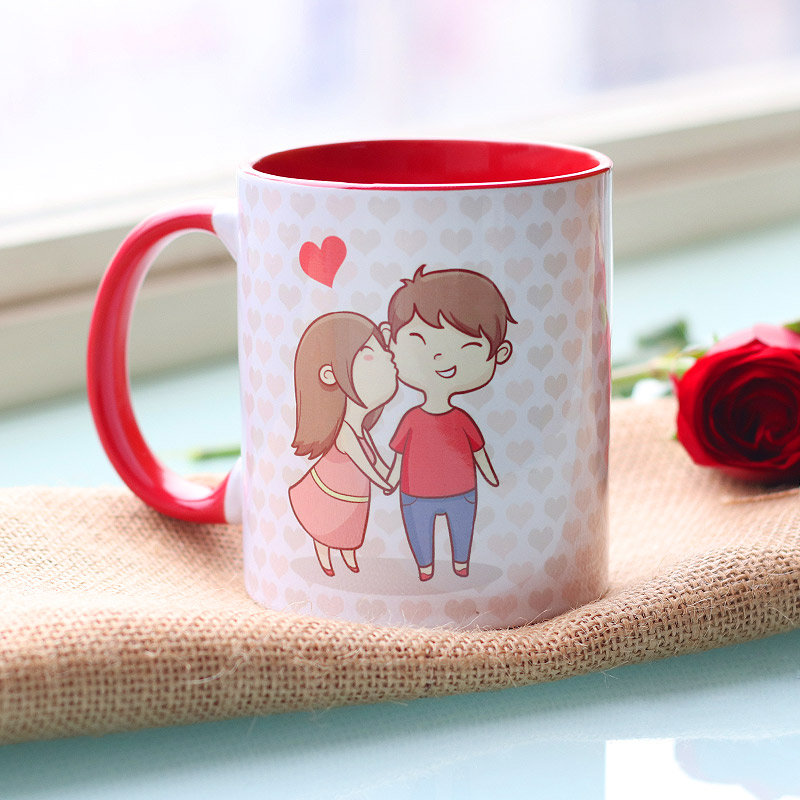cup: (82, 136, 643, 633)
